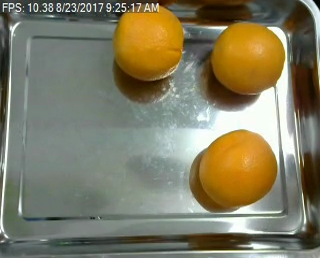Orange: (198, 129, 278, 209), (209, 22, 285, 93), (113, 5, 182, 80)
